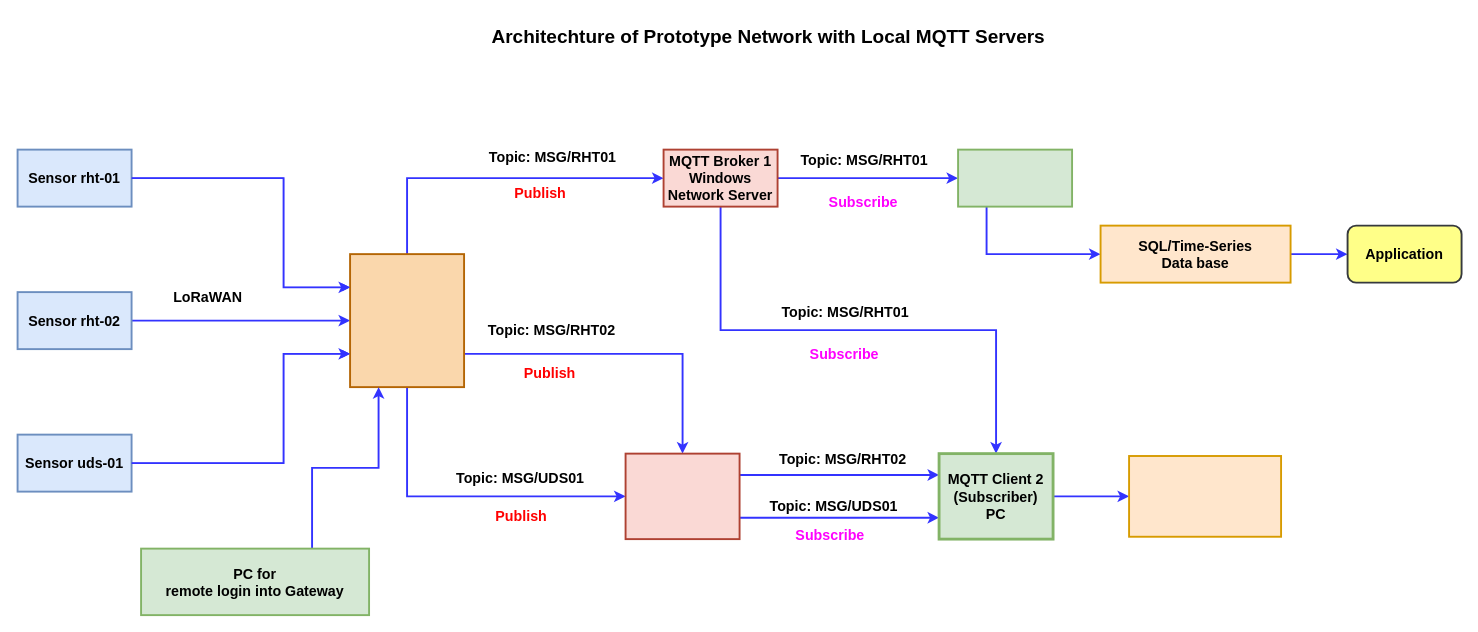
This 1478x632 diagram has some shape labels left out. Here are the shapes that lost their labels. From the top down, the centre of each, then its label:
At (1015,177): "MQTT Client 1 (Subscriber) PC".
At (407,320): "LoRaWAN Gateway MQTT Publisher".
At (682,496): "MQTT Broker 2 Linux Network Server".
At (1205,496): "Data Logging System 1) Node-Red flows 2) Python scripts".
